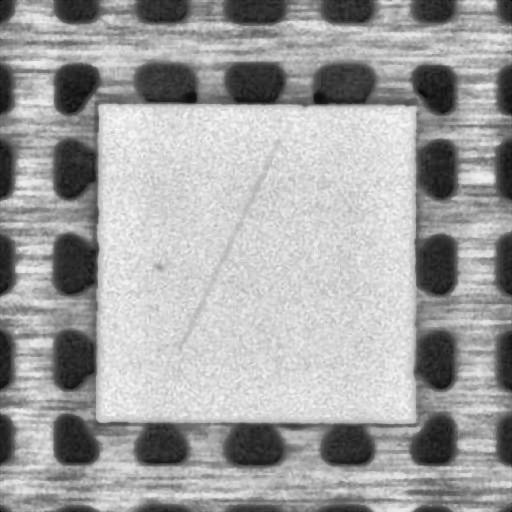DIE_CRACK: (178, 139, 278, 347)
